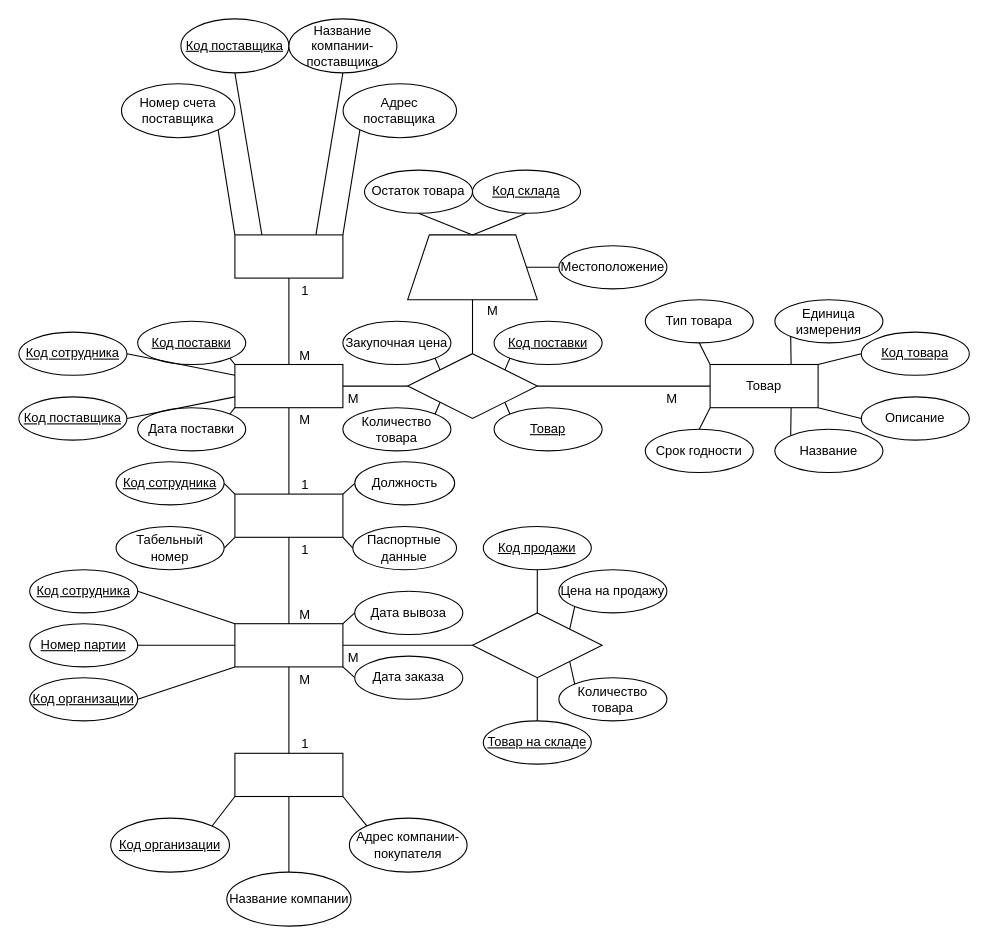
Some shapes in this 988 by 945 pixel diagram are drawn without their labels. Each missing label, with the centre of its shape:
Закупочный товар: (x=472, y=385)
Компания-покупатель: (x=288, y=774)
Компания-поставщик: (x=288, y=256)
Менеджер: (x=288, y=515)
Поставка: (x=288, y=385)
Продажа: (x=288, y=645)
Склад: (x=472, y=267)
Товар на продажу: (x=536, y=645)
